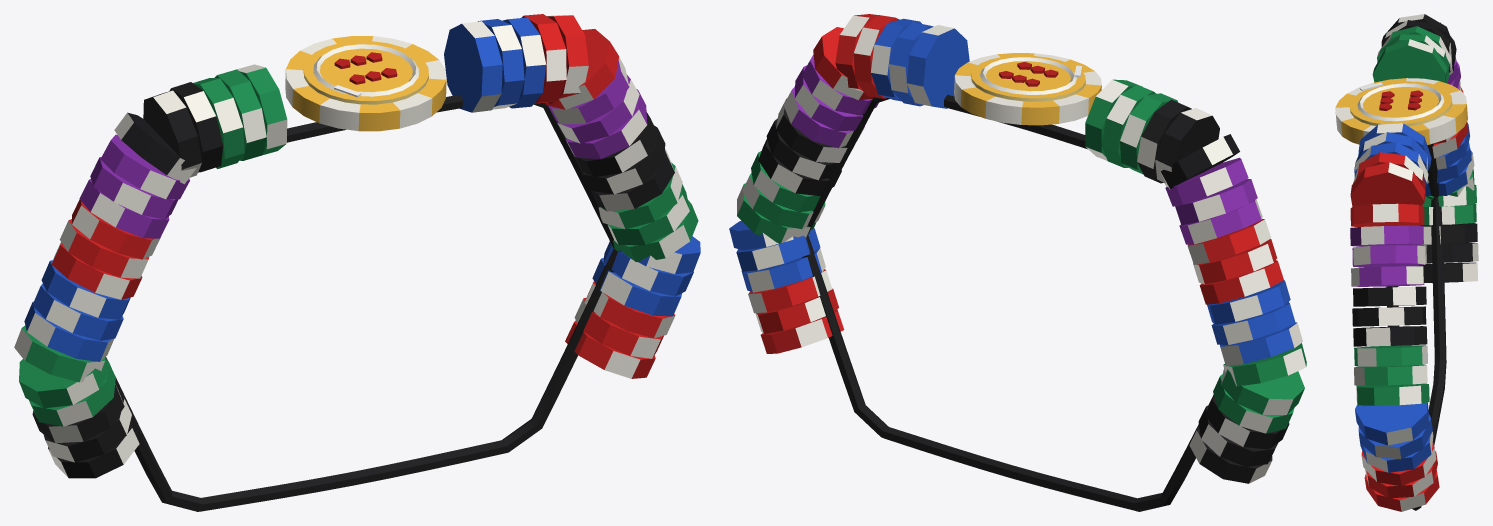
File: Wrist_Chips.fbx
3 views of the same model, side by side, from view 1: azimuth 30°, elevation 25°; view 2: azimuth 150°, elevation 25°; view 3: azimuth 270°, elevation 25° (orthographic). The views are drawn at different scales.
Parts seen in each view (by area): view 1: Wrist_Chips; view 2: Wrist_Chips; view 3: Wrist_Chips.
Boxes of the visible parts, bbox=[...] form: Wrist_Chips: bbox=[14, 14, 700, 511]; Wrist_Chips: bbox=[729, 14, 1306, 511]; Wrist_Chips: bbox=[1335, 14, 1478, 511].
Size of the model in its own units: 0.5741 by 0.382 by 0.1342.
Materials: 1 (1 with a texture image).
